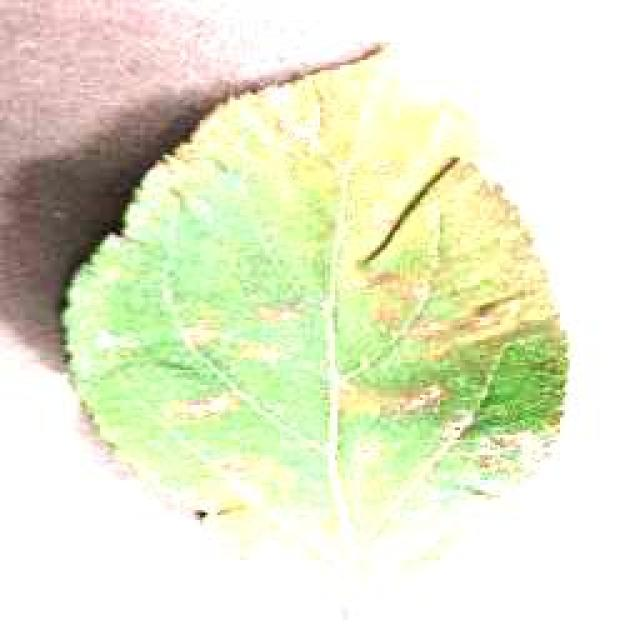apple scab disease: (55, 42, 570, 568)
